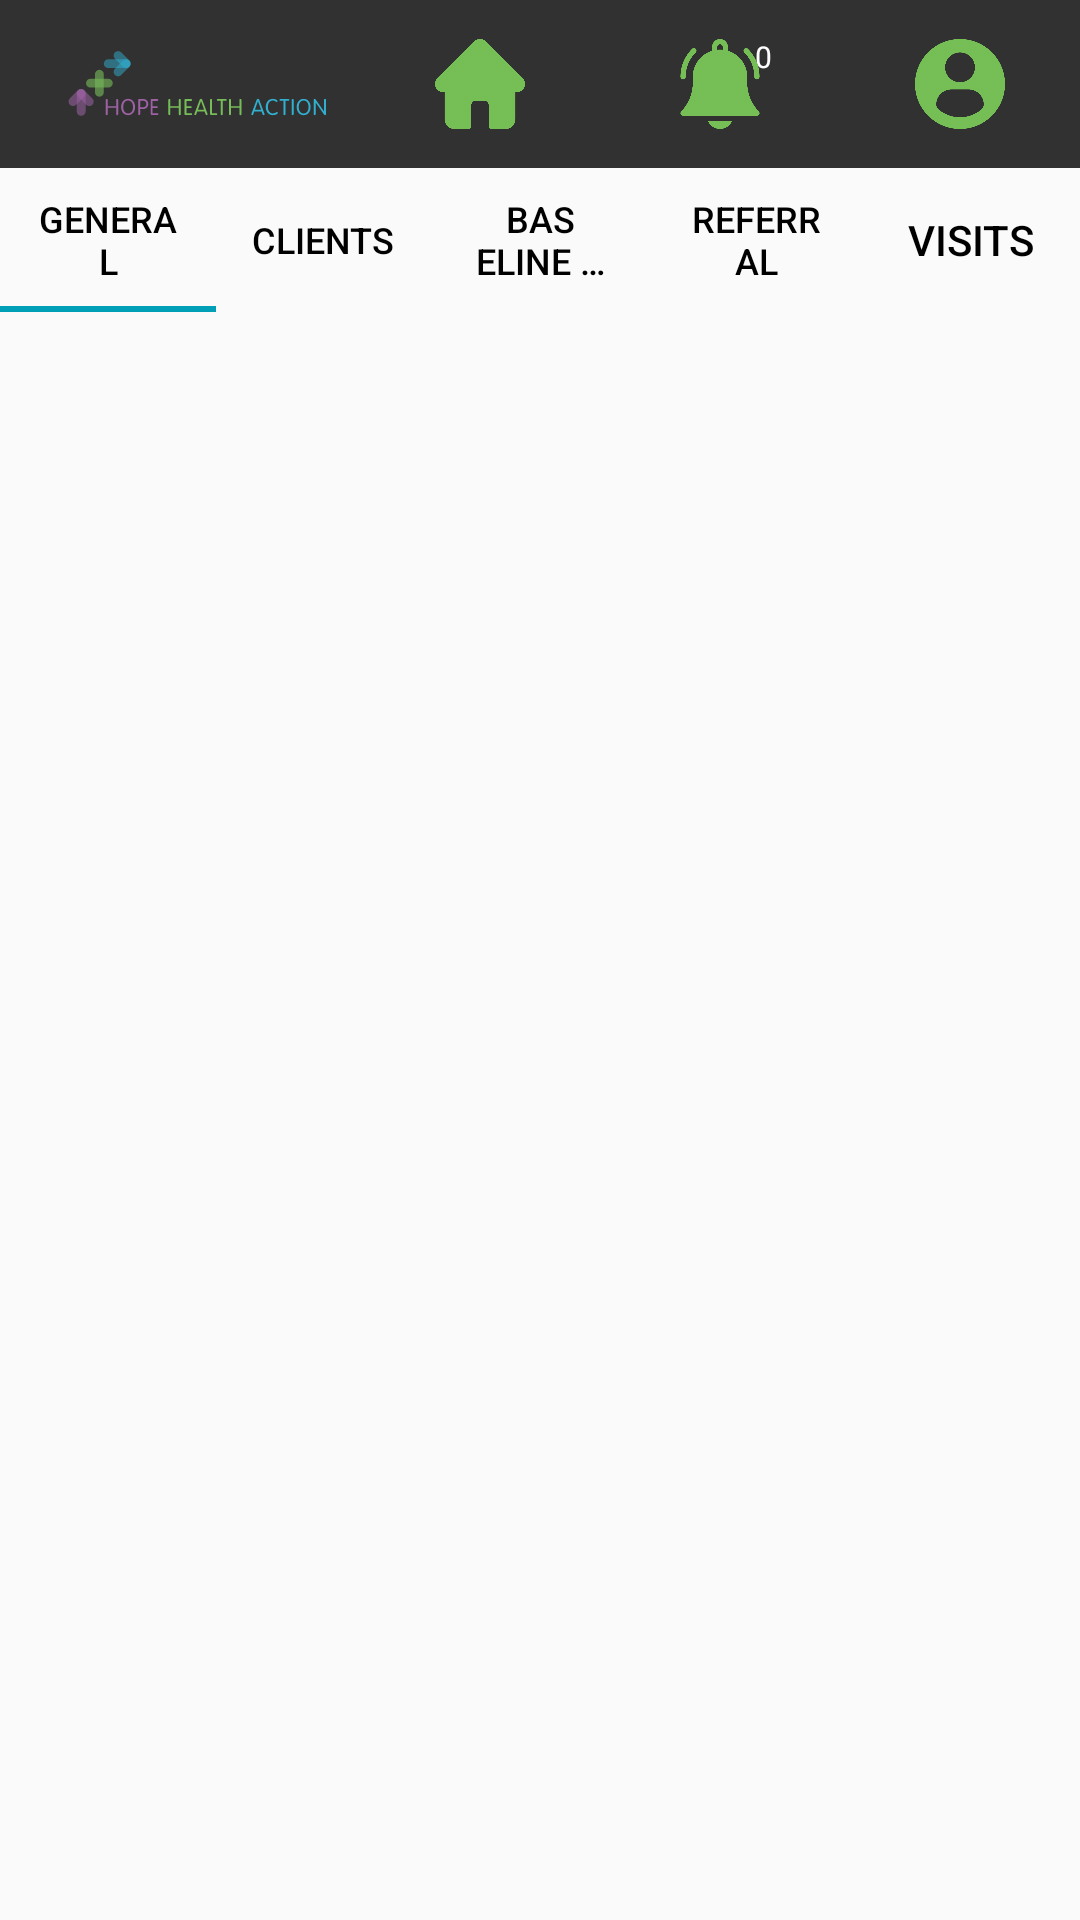

Point at icon controls on the screen. Image size 1080w x 1920h, points as (x,y).
bell: (725,84)
home: (480,84)
profile taskbar: (960,84)
